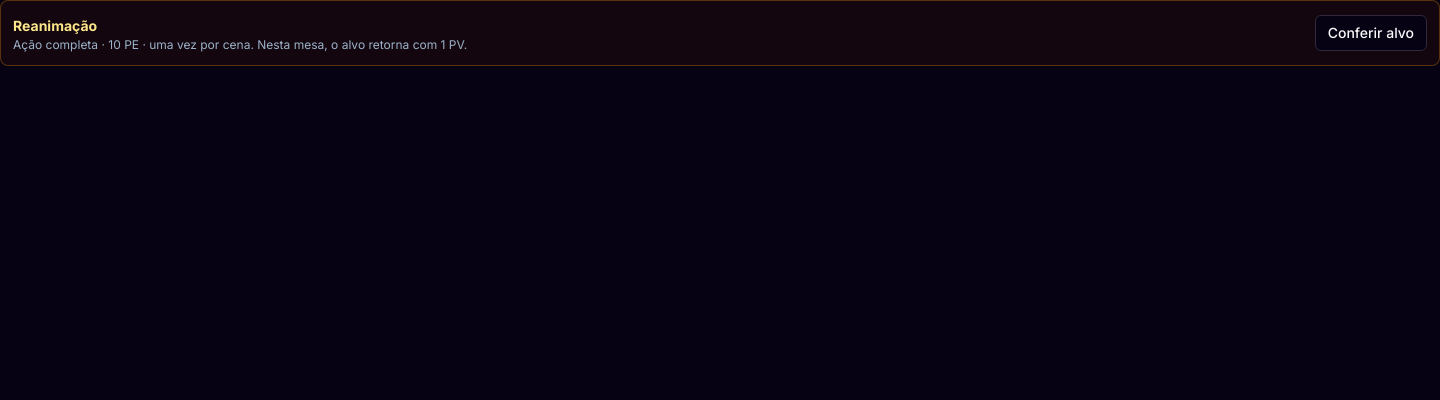
Test: Reanimação com morte confirmada pelo mestre › mestre registra morte e causa sem cobrar PE na interface
Later steps or results of the test are not shown.
Click the button "Conferir alvo" at (1371, 33), box [1315, 15, 1427, 51]
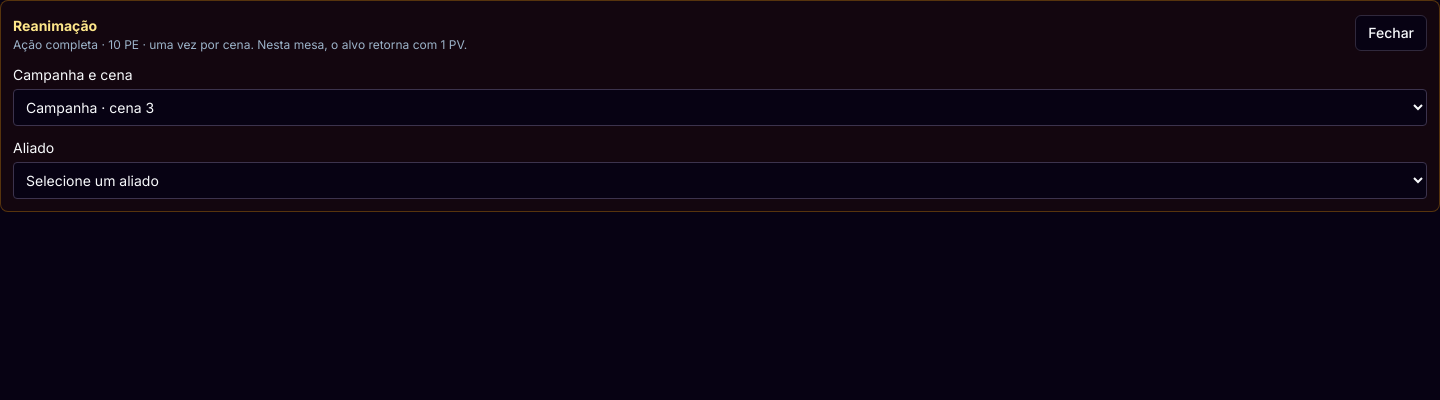
Select "Aliado · 0/20 PV" in the dropdown named "Alvo de Reanimação" at (720, 180), box [13, 162, 1427, 199]
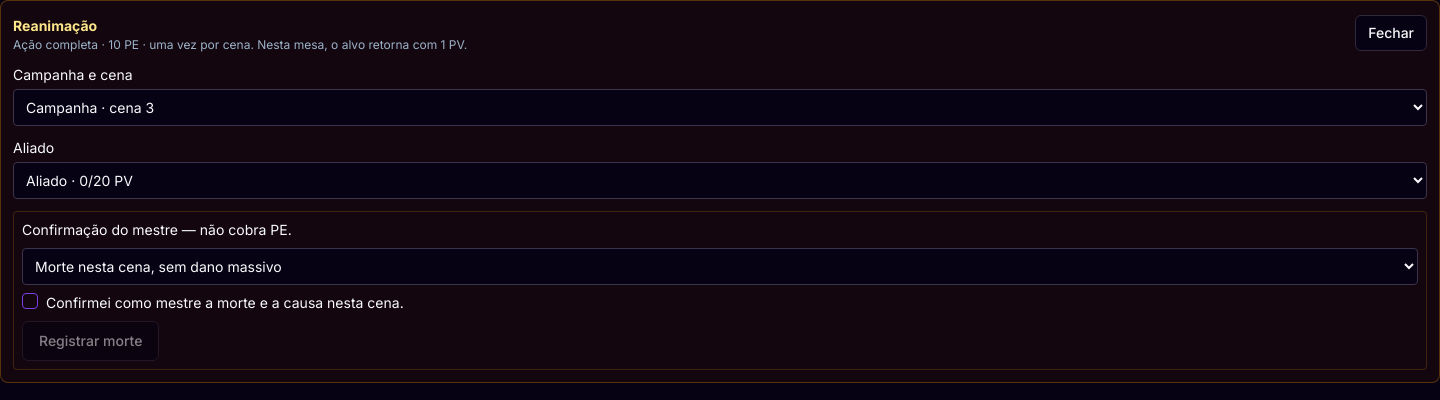
Check: the button "Registrar morte" is disabled, box [22, 321, 160, 361]
